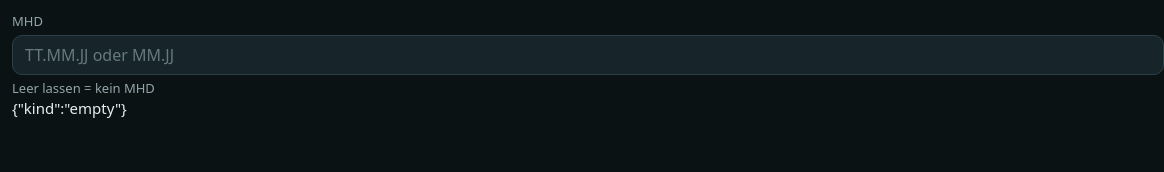
Test case: BestBeforeField › meldet unlesbare Eingaben erst beim Verlassen des Felds als Fehler
Later steps or results of the test are not shown.
Step 1. Type "25." into the field labelled "MHD" → (588, 55), box [25,36,1151,74]
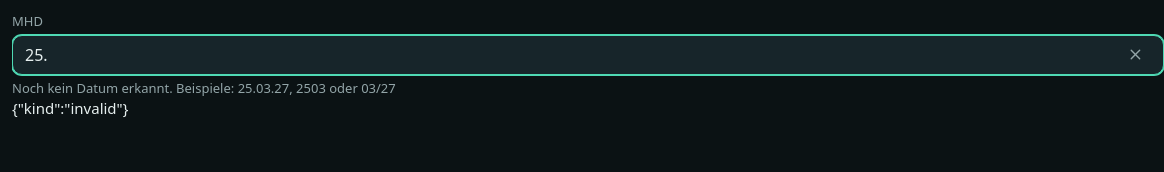
Step 2. Press Tab
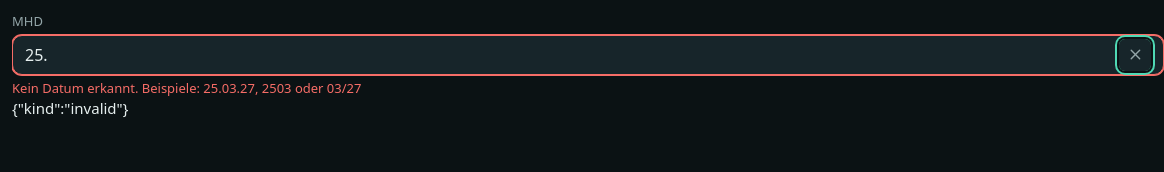
Expected: the message reads "Kein Datum erkannt. Beispiele: 25.03.27, 2503 oder 03/27", [12,79,362,97]
